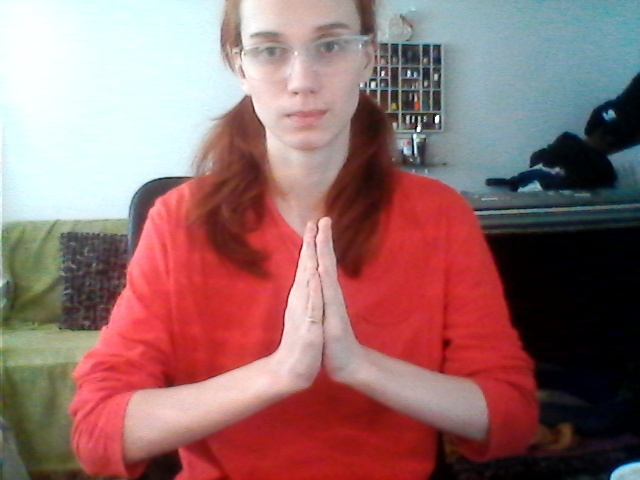prosim: (226, 202, 416, 415)
